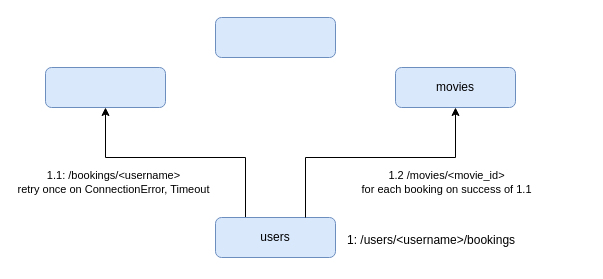
Image size: 603x279. Some labels were removed from this diagram. Each missing label, with the centre of its shape:
bookings: the point at 105,87
showtimes: the point at 275,37
